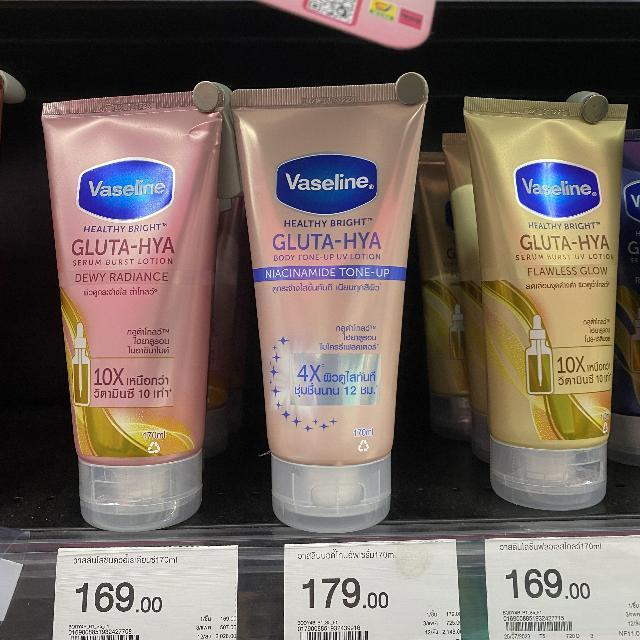Squeeze Tube: (8, 31, 640, 538)
